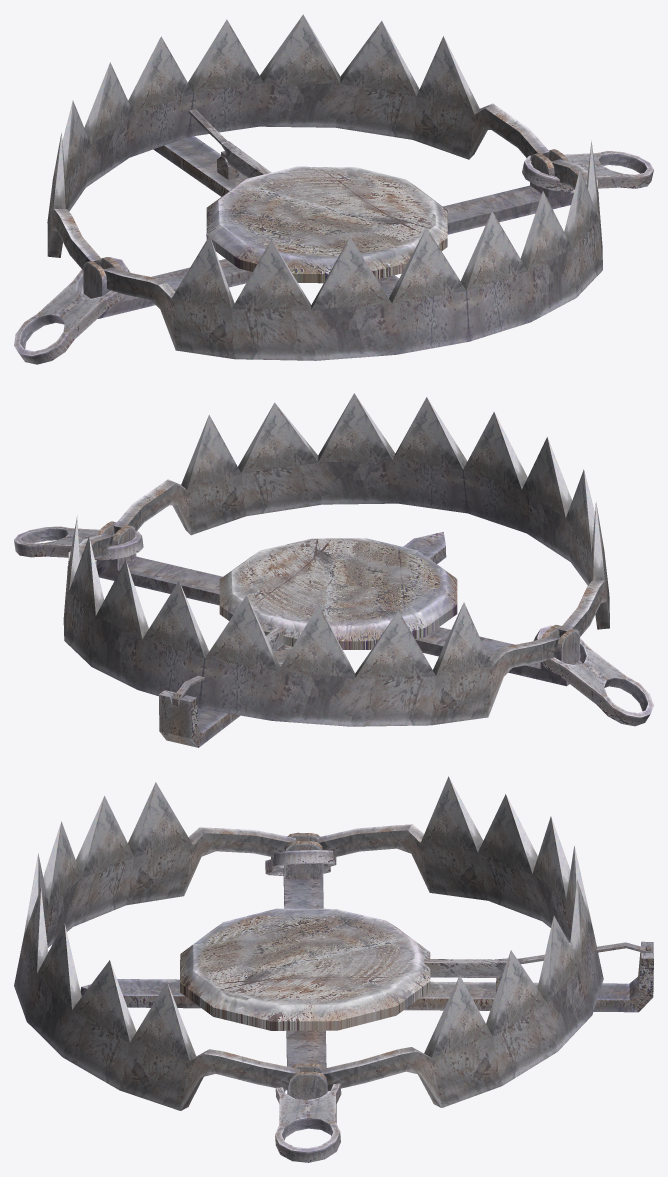
3 renders of one model, top to bottom at view 1: azimuth 30°, elevation 25°; view 2: azimuth 150°, elevation 25°; view 3: azimuth 270°, elevation 25°, orthographic. The views are drawn at different scales.
Visible parts, largest first — view 1: Trap_LeftSide, Trap_RightSide, Trap_Center, Trap_Cross, Trap_1, Trap_4; view 2: Trap_RightSide, Trap_LeftSide, Trap_Center, Trap_Cross, Trap_1; view 3: Trap_RightSide, Trap_LeftSide, Trap_Center, Trap_Cross, Trap_1, Trap_4.
Part boxes in pixels (x1,y1,x2,y2): Trap_LeftSide: (104, 140, 602, 360); Trap_RightSide: (47, 14, 549, 269); Trap_Center: (206, 166, 447, 283); Trap_Cross: (81, 136, 573, 318); Trap_1: (14, 151, 653, 364); Trap_4: (221, 141, 271, 177); Trap_RightSide: (63, 516, 558, 726); Trap_LeftSide: (114, 393, 609, 637); Trap_Center: (219, 538, 457, 649); Trap_Cross: (95, 521, 581, 747); Trap_1: (14, 526, 653, 726); Trap_RightSide: (317, 776, 603, 1107); Trap_LeftSide: (14, 782, 299, 1110); Trap_Center: (180, 908, 430, 1030); Trap_Cross: (80, 832, 653, 1099); Trap_1: (265, 850, 341, 1162); Trap_4: (423, 958, 507, 977).
Bounding box in the file's own units: 148 × 36.01 × 124.
